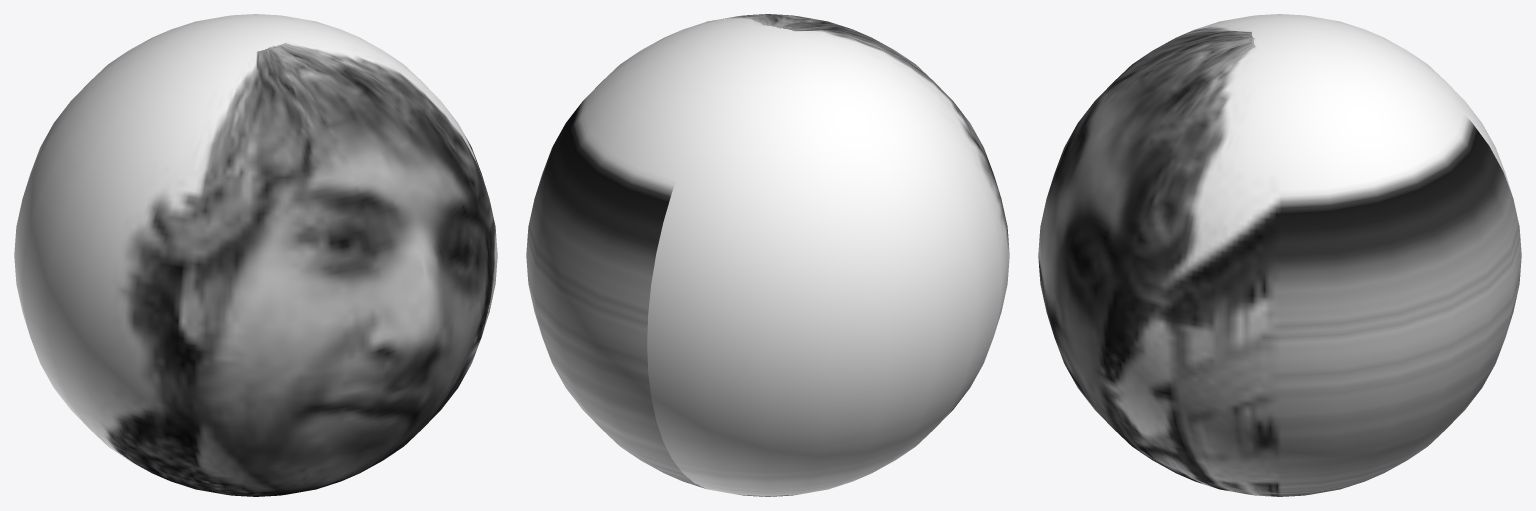
The model's file is playerObj.fbx.
3 views of the same model, side by side, from view 1: azimuth 30°, elevation 25°; view 2: azimuth 150°, elevation 25°; view 3: azimuth 270°, elevation 25° (orthographic).
Parts seen in each view (by area): view 1: sphere; view 2: sphere; view 3: sphere.
Part boxes in pixels (box(x1,y1,x2,y2)): sphere: box(14, 14, 497, 496); sphere: box(526, 14, 1009, 496); sphere: box(1038, 14, 1521, 496).
Bounding box in the file's own units: 300 × 300 × 300.
